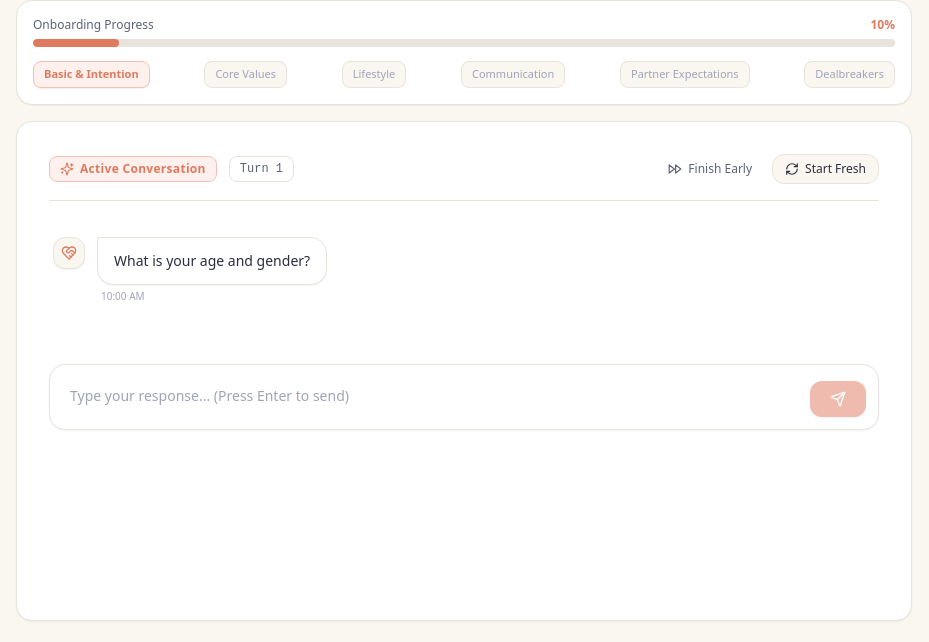
Scenario: InterviewPage Component › sends user turn message and renders returned assistant response
The image size is (929, 642).
Expected: the text "What is your age and gender?" is shown, [114,250,310,272]
Type "I am 28 years old." into the text box with placeholder "Type your response... (Press Enter to send)" at point(432, 397), box [62,377,802,417]
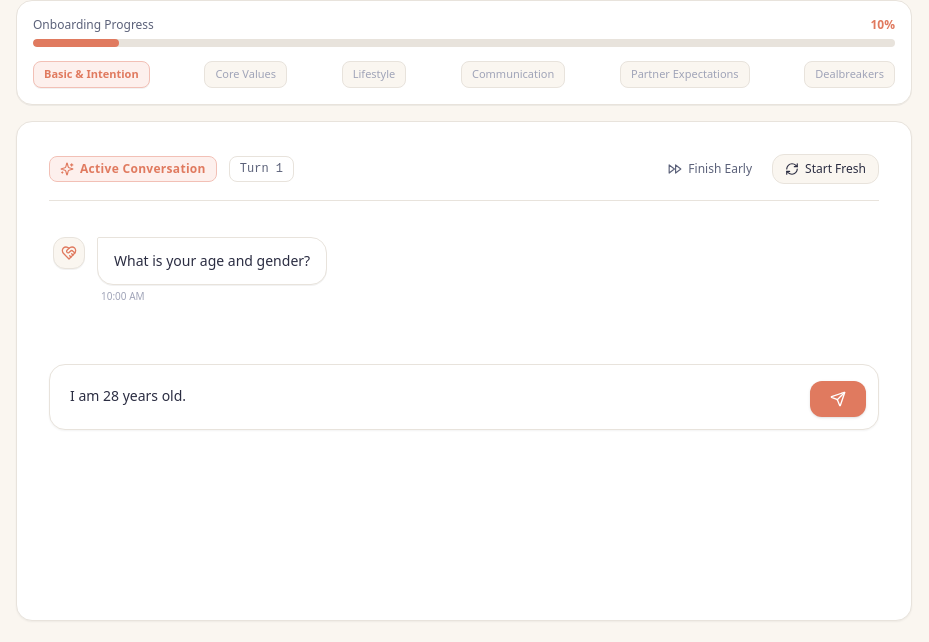
Click the 3rd button at point(838, 399), box [810,381,866,417]
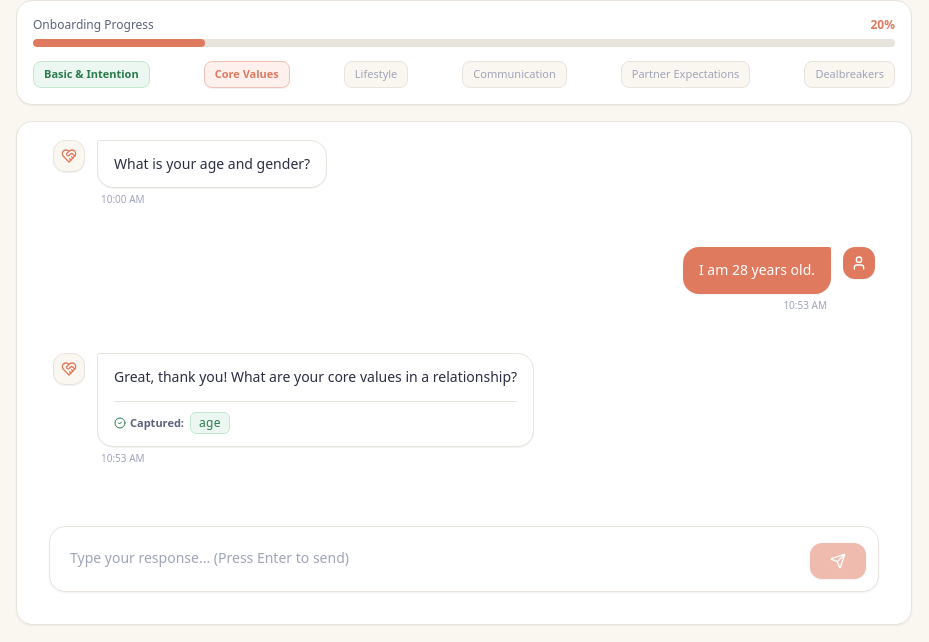
Expected: the text "Great, thank you! What are your core values in a relationship?" is shown, [114,366,517,389]
